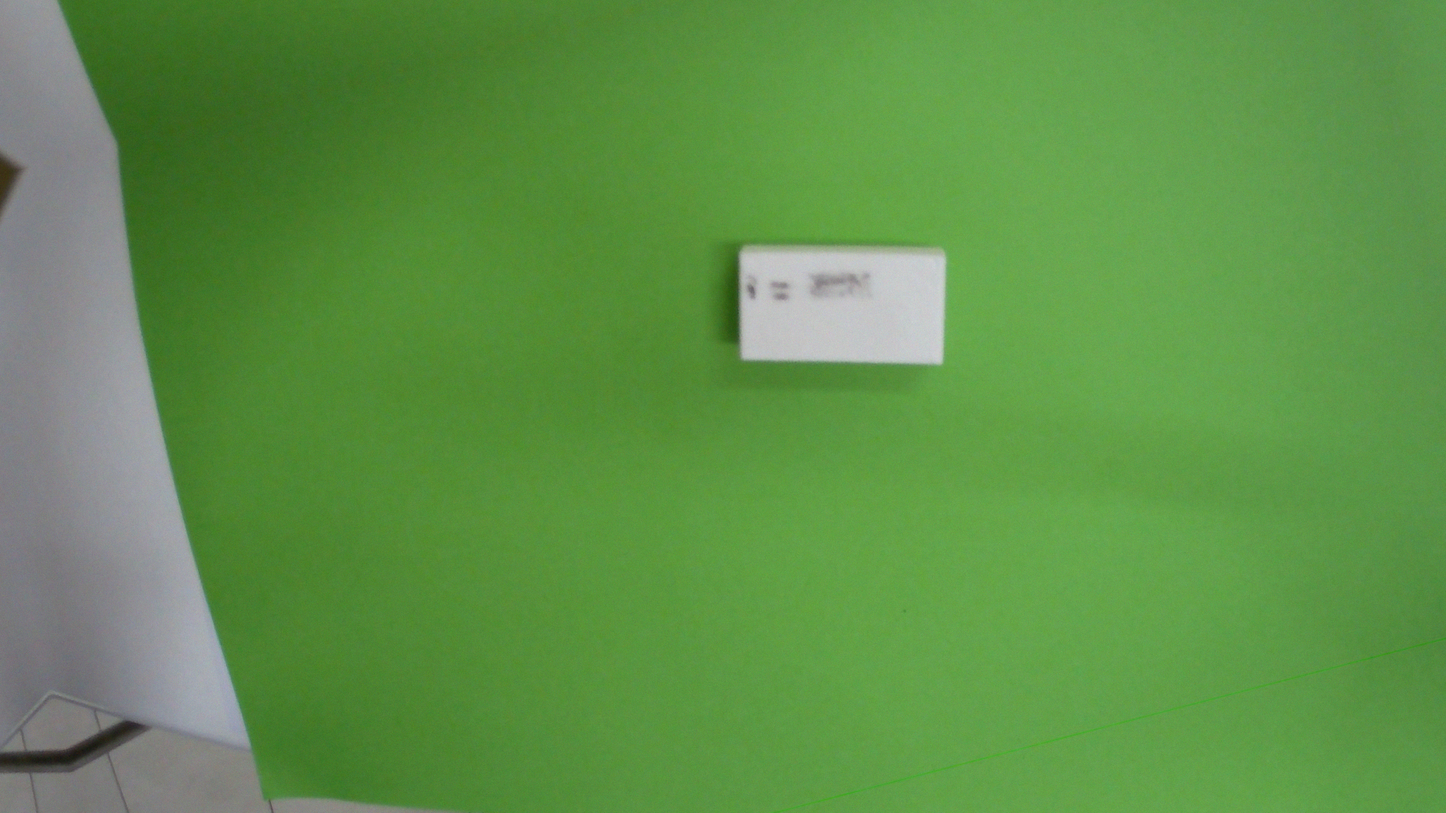gom: (700, 193, 972, 416)
